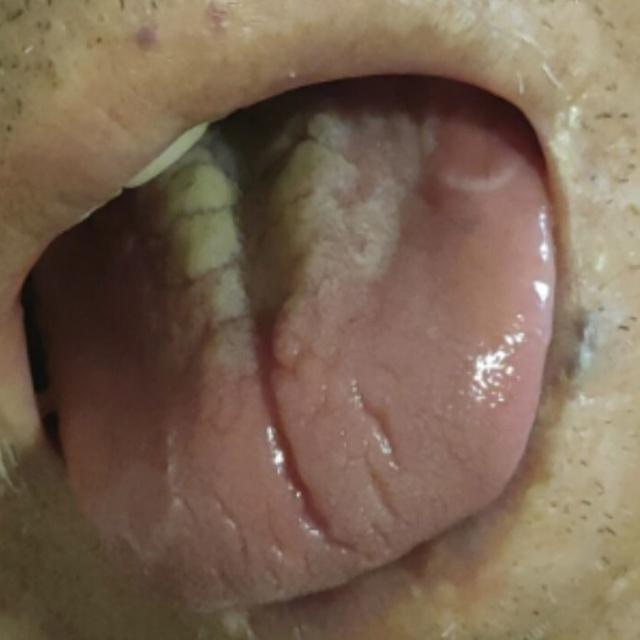huangtaishe: (27, 94, 559, 617)
huataishe: (450, 213, 557, 413)
liewenshe: (248, 331, 340, 566)
